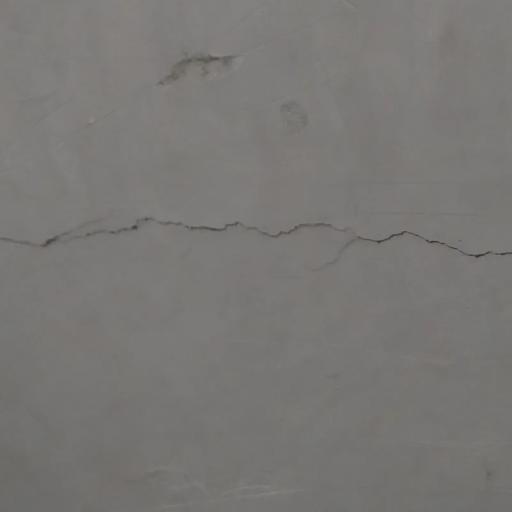minor_crack: (12, 160, 512, 266), (147, 37, 260, 102)
